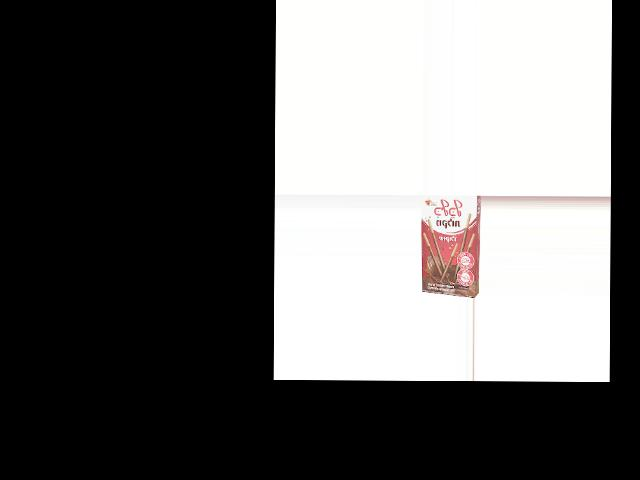chocolate: (420, 195, 479, 291)
